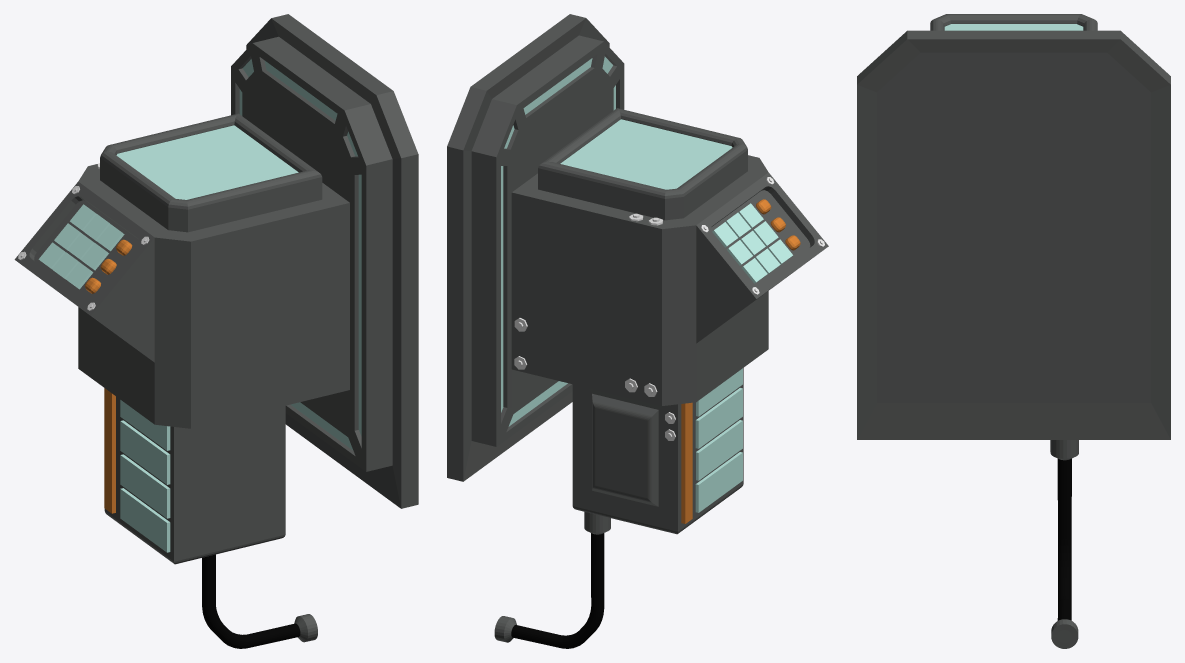
Rendered from terminal3.fbx.
The picture shows the model from 3 angles, left to right: view 1: azimuth 30°, elevation 25°; view 2: azimuth 150°, elevation 25°; view 3: azimuth 270°, elevation 25°; orthographic projection. The views are drawn at different scales.
Visible parts, largest first — view 1: terminal3; view 2: terminal3; view 3: terminal3.
Boxes of the visible parts, left/top/right/bottom form: terminal3: left=14, top=14, right=418, bottom=648; terminal3: left=447, top=14, right=828, bottom=648; terminal3: left=857, top=14, right=1170, bottom=648.
Size of the model in its own units: 1.95 by 1.81 by 3.89.
